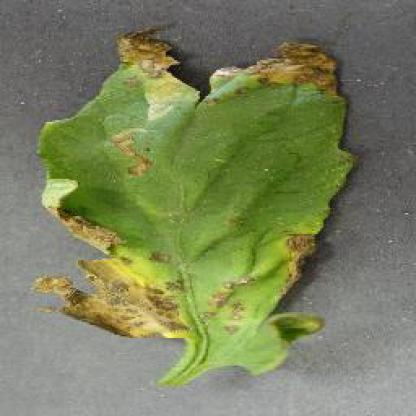bad leaf: (23, 26, 383, 403)
